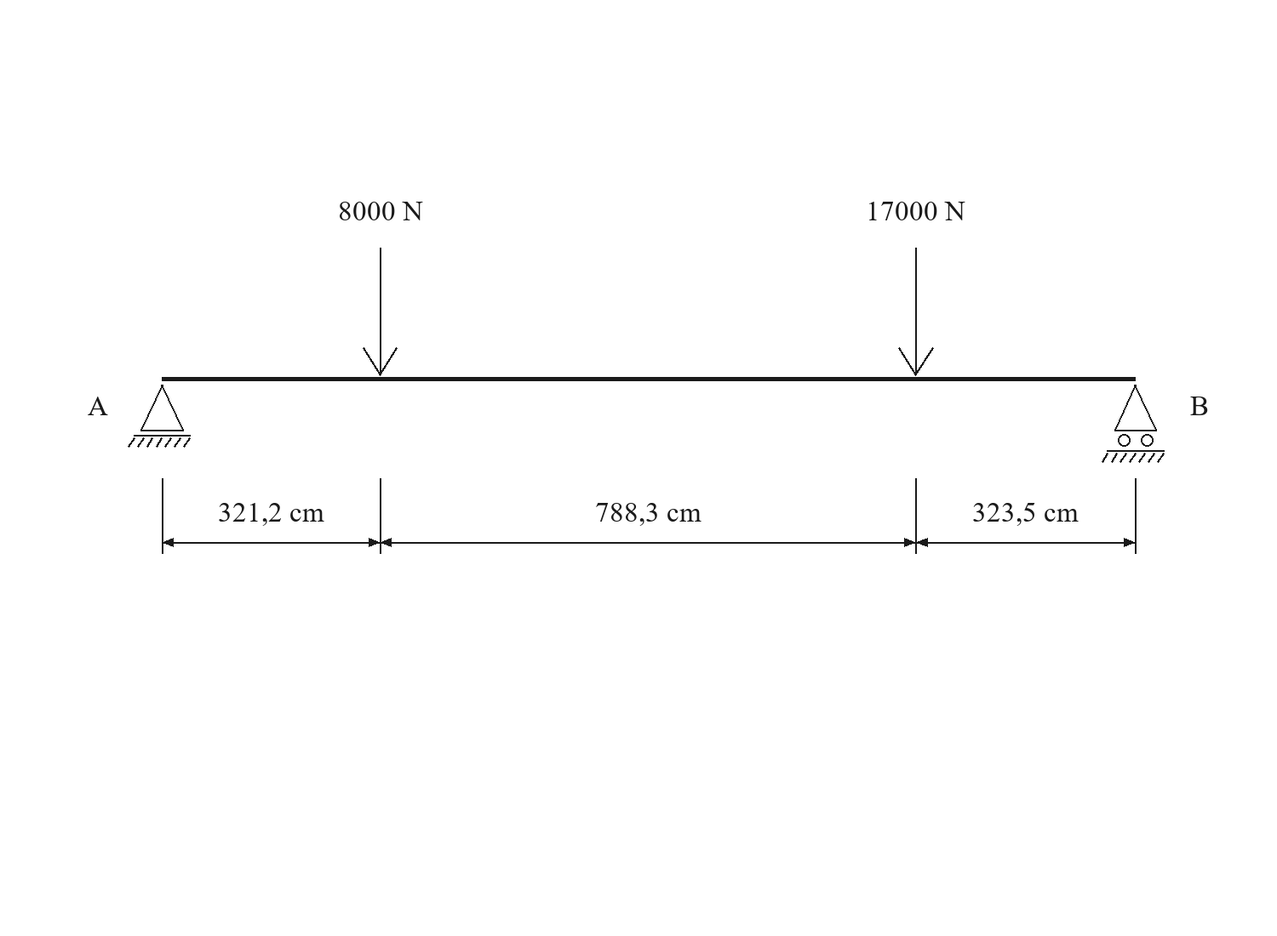pin_support: (128, 385, 191, 448)
point_load: (898, 248, 934, 376), (363, 248, 398, 376)
roller_support: (1102, 385, 1165, 463)
